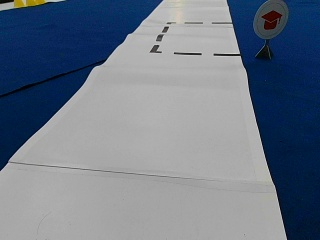school: (254, 1, 287, 39)
